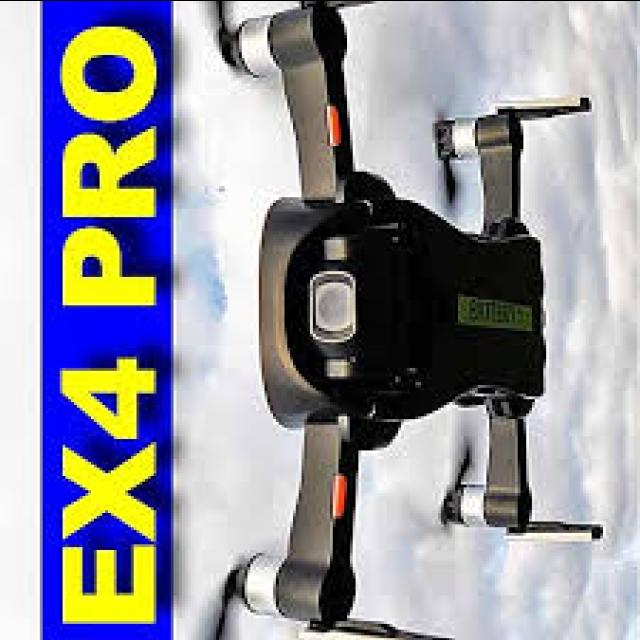drone: (164, 0, 596, 640)
